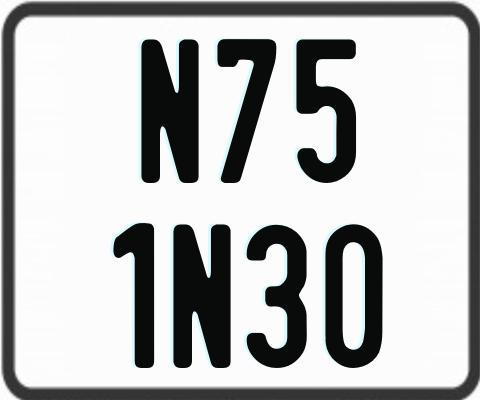0: (325, 221, 387, 371)
1: (112, 221, 153, 370)
3: (246, 225, 312, 373)
5: (293, 37, 354, 186)
7: (215, 36, 280, 186)
N: (170, 224, 233, 373), (138, 38, 197, 186)
